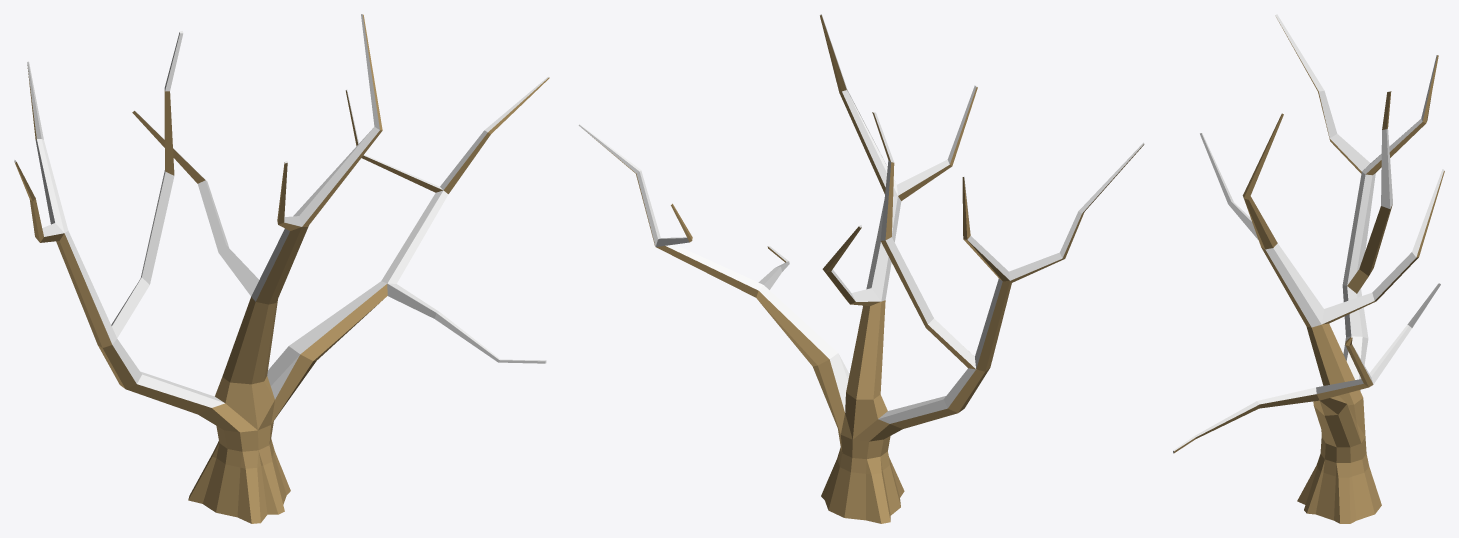
File: Oak_Tree_NoLeaves_l_Snow_BT_01.fbx
The picture shows the model from 3 angles, left to right: view 1: azimuth 30°, elevation 25°; view 2: azimuth 150°, elevation 25°; view 3: azimuth 270°, elevation 25°; orthographic projection. The views are drawn at different scales.
Parts seen in each view (by area): view 1: Oak_Tree_NoLeaves_l_Snow_BT_01; view 2: Oak_Tree_NoLeaves_l_Snow_BT_01; view 3: Oak_Tree_NoLeaves_l_Snow_BT_01.
Part boxes in pixels (x1=…): Oak_Tree_NoLeaves_l_Snow_BT_01: x1=14, y1=14, x2=549, y2=523; Oak_Tree_NoLeaves_l_Snow_BT_01: x1=578, y1=14, x2=1144, y2=523; Oak_Tree_NoLeaves_l_Snow_BT_01: x1=1173, y1=14, x2=1444, y2=523.
Size of the model in its own units: 1042 by 848 by 488.
